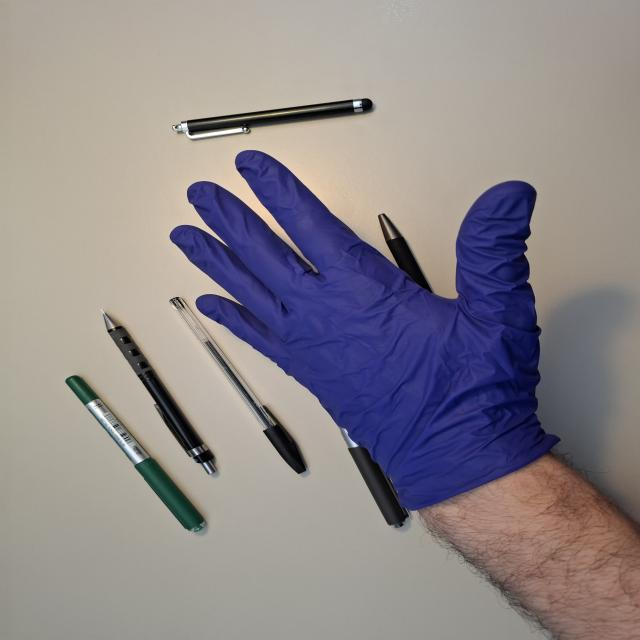glove_on: (167, 147, 548, 510)
